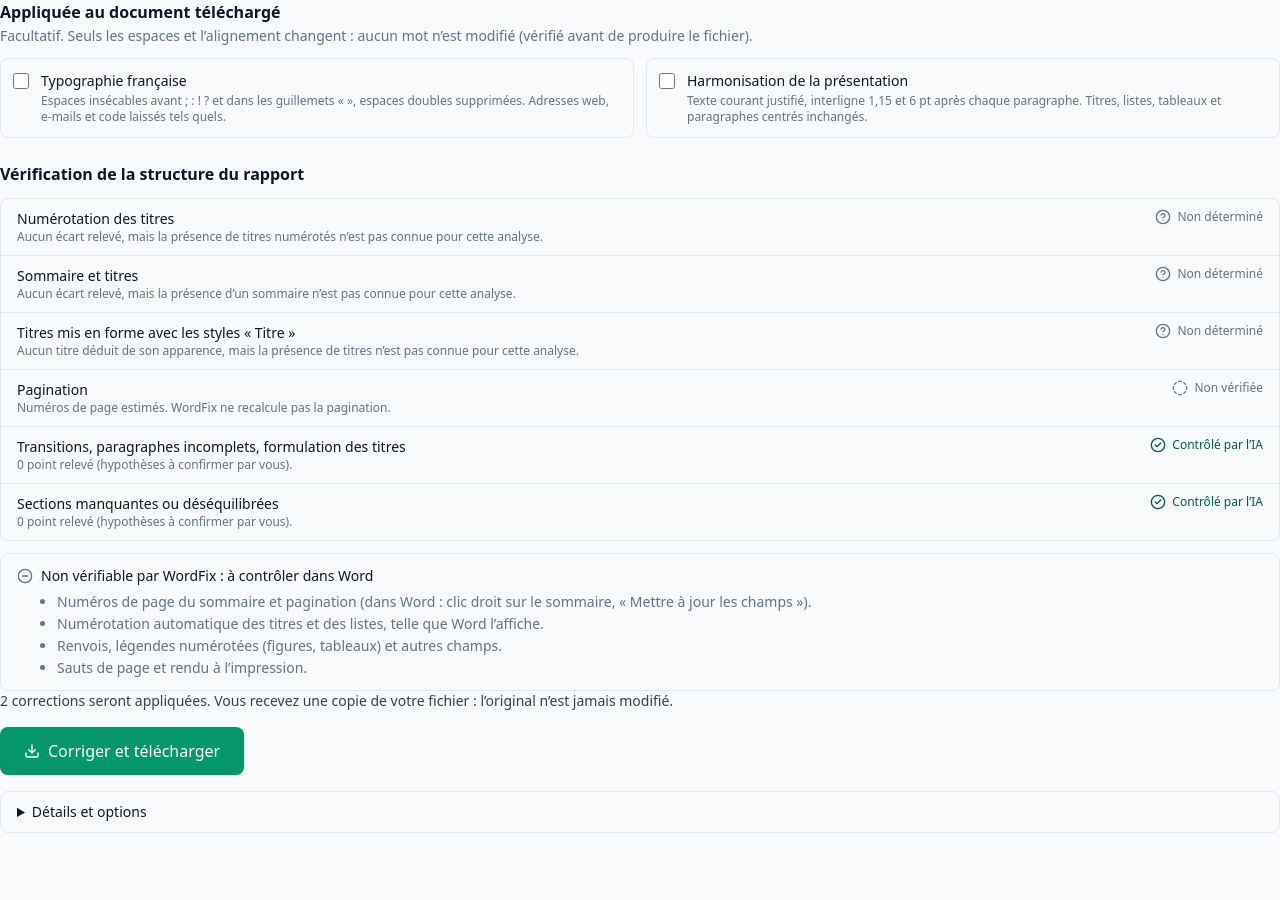
Test: Action principale « Corriger et télécharger » › téléchargement refusé (expiré) : message, aucun fichier enregistré
Click the button "Corriger et télécharger".
click(122, 751)  # box [0, 727, 244, 775]
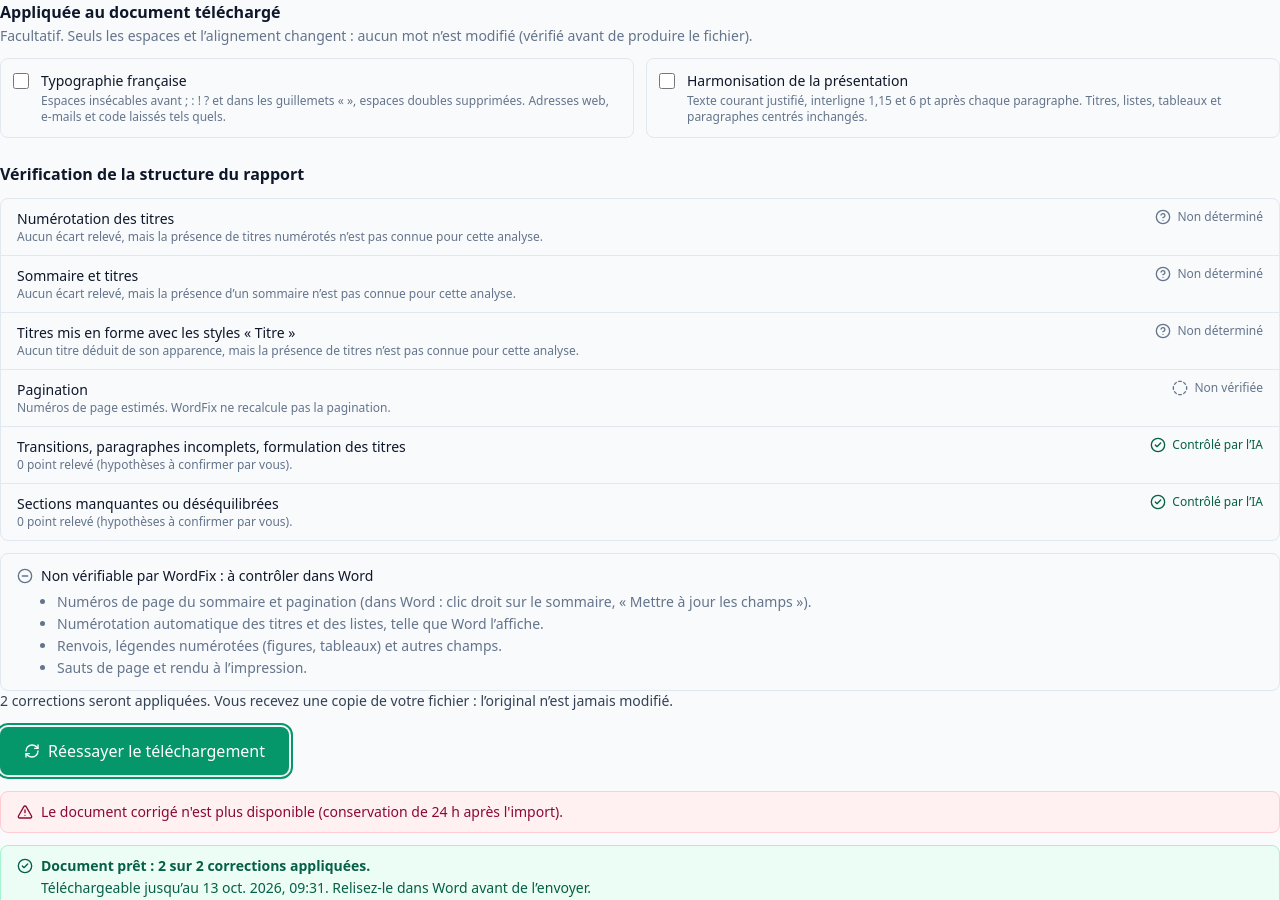
Check: the text "n'est plus disponible" is shown, box [41, 802, 563, 821]
